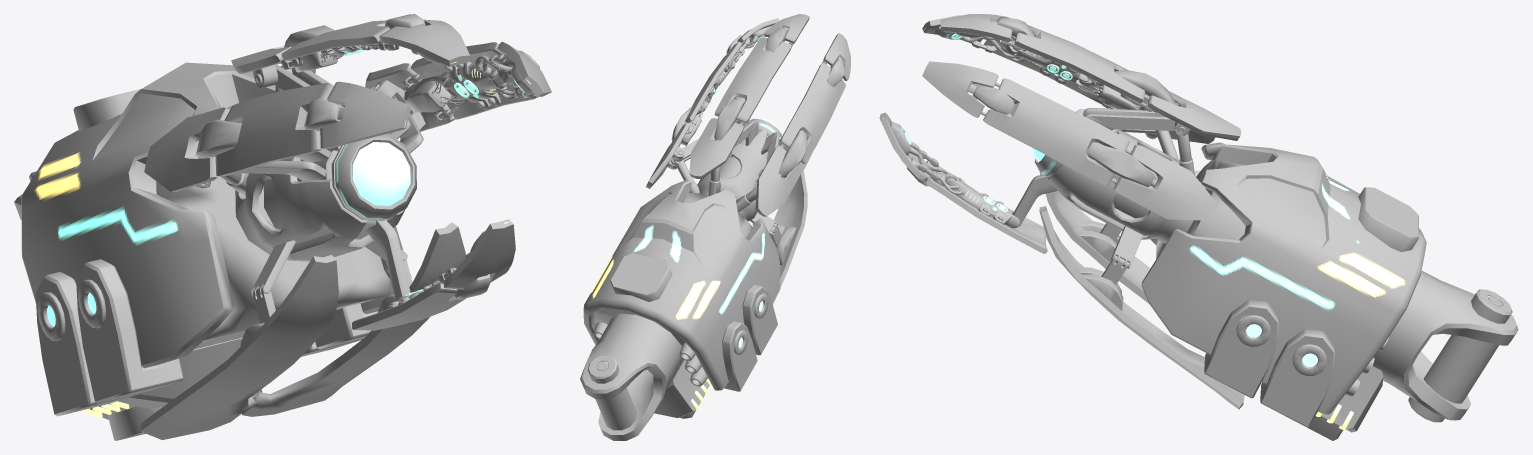
Rendered from Player_GloveHand_ModelForShowcase.fbx.
3 views of the same model, side by side, from view 1: azimuth 30°, elevation 25°; view 2: azimuth 150°, elevation 25°; view 3: azimuth 270°, elevation 25° (orthographic). The views are drawn at different scales.
Visible parts, largest first — view 1: Cylinder.009; view 2: Cylinder.009; view 3: Cylinder.009.
Part boxes in pixels (x1,y1,x2,y2): Cylinder.009: (14,14,551,440); Cylinder.009: (580,14,850,440); Cylinder.009: (879,14,1518,440).
Size of the model in its own units: 29.13 by 81.76 by 57.1.
